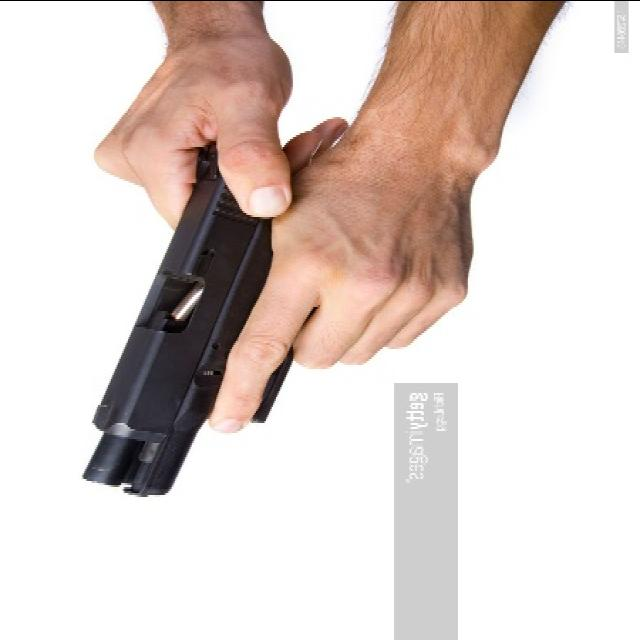handgun: (75, 123, 301, 519)
